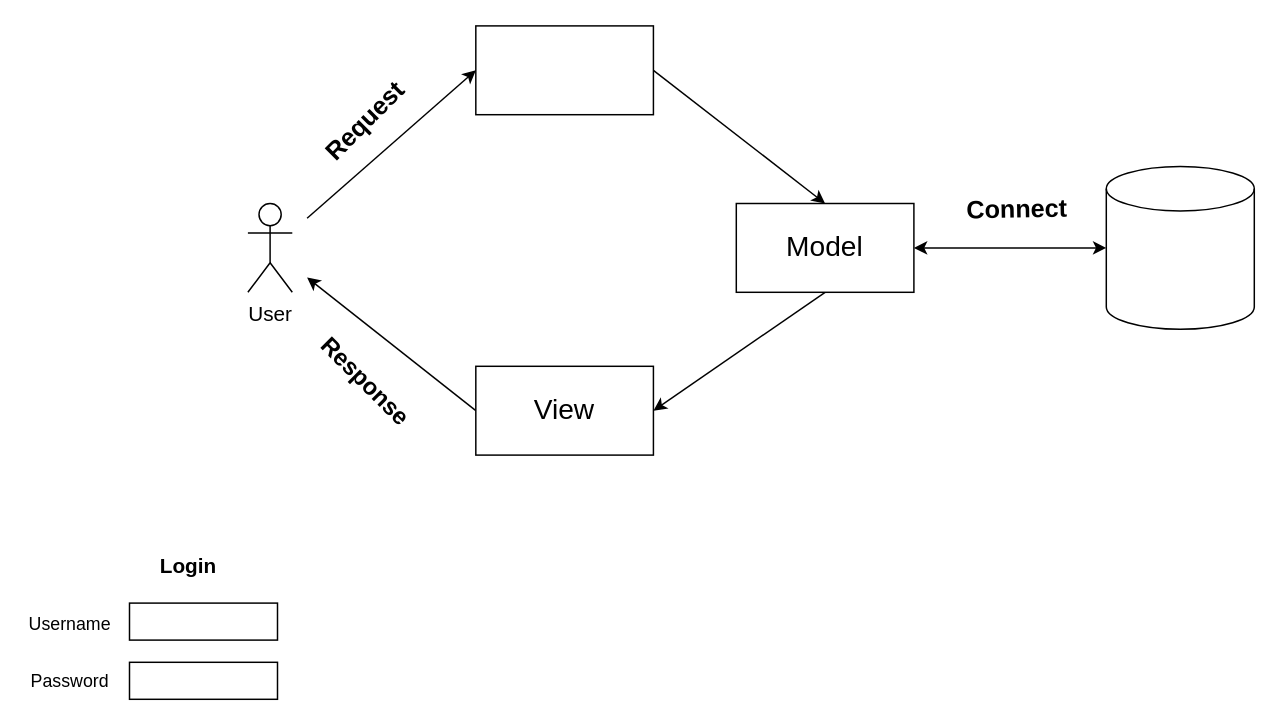
Image size: 1280x728. Some labels were removed from this diagram. The box of each missing label's shape, as (x1, y1, x2, y2) in pixels:
Controller: (474, 24, 653, 115)
Database: (1105, 165, 1254, 329)
